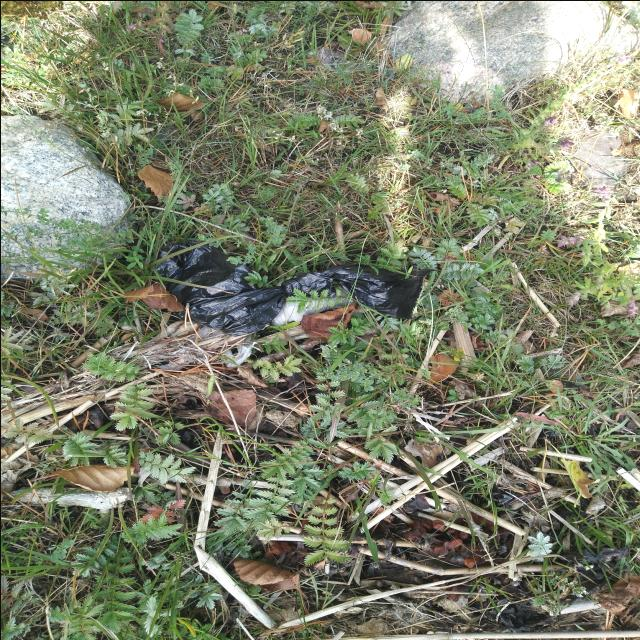Garbage bag: (151, 241, 434, 336)
Plastic film: (271, 285, 352, 325)
